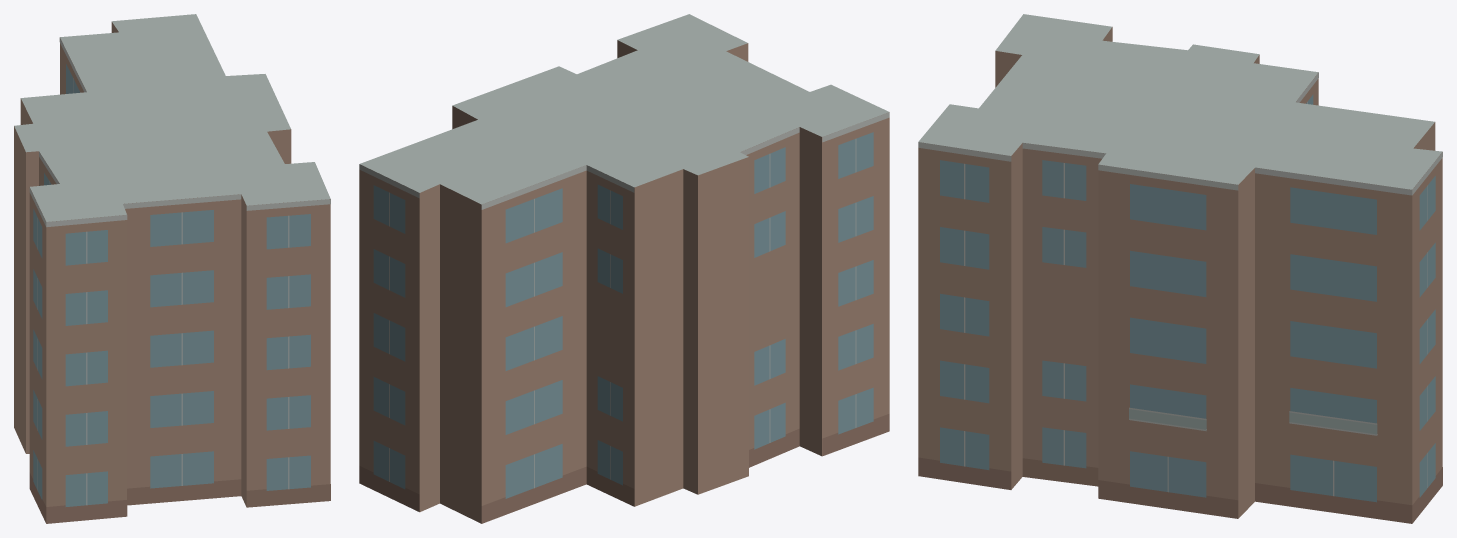
Rendered from survey-upis-32755477.glb.
3 renders of one model, left to right at view 1: azimuth 30°, elevation 25°; view 2: azimuth 150°, elevation 25°; view 3: azimuth 270°, elevation 25°, orthographic. The views are drawn at different scales.
Parts seen in each view (by area): view 1: survey-upis-32755477.tmp; view 2: survey-upis-32755477.tmp; view 3: survey-upis-32755477.tmp.
Boxes of the visible parts, bbox=[...] form: survey-upis-32755477.tmp: bbox=[14, 14, 330, 523]; survey-upis-32755477.tmp: bbox=[359, 14, 889, 523]; survey-upis-32755477.tmp: bbox=[918, 14, 1442, 523].
Size of the model in its own units: 15.92 by 14.1 by 20.07.
